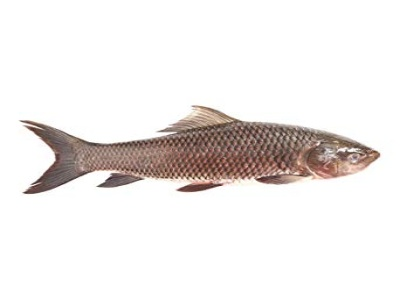rohu: (10, 95, 388, 216)
